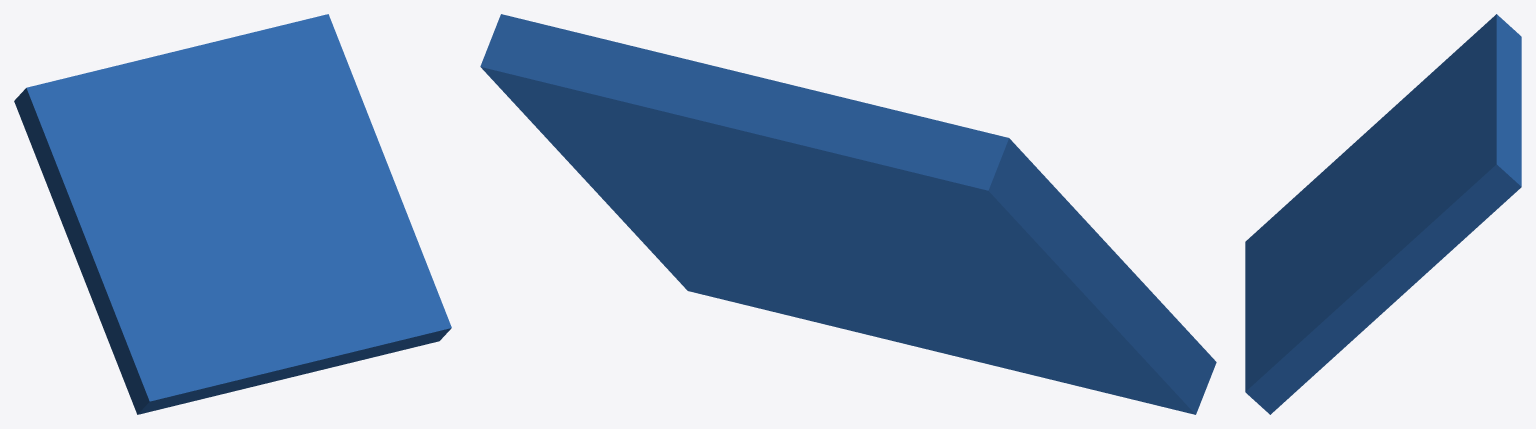
The model's file is Ceiling_45.fbx.
3 views of the same model, side by side, from view 1: azimuth 30°, elevation 25°; view 2: azimuth 150°, elevation 25°; view 3: azimuth 270°, elevation 25° (orthographic). The views are drawn at different scales.
Visible parts, largest first — view 1: Ceiling_45; view 2: Ceiling_45; view 3: Ceiling_45.
Boxes of the visible parts, x1,y1,x2,y2 form: Ceiling_45: (14,14,451,414); Ceiling_45: (480,14,1216,414); Ceiling_45: (1245,14,1521,414).
Bounding box in the file's own units: 100 × 77.78 × 77.78.
